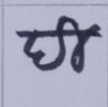i_matra: (62, 16, 87, 71)
